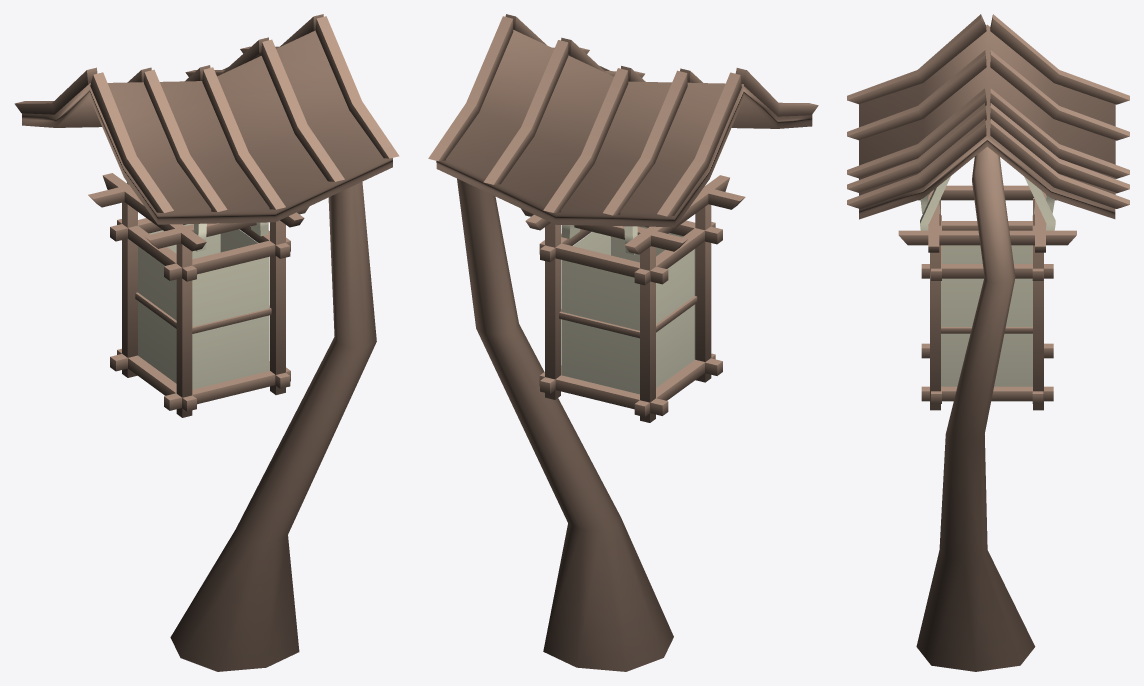
The model's file is m_paperLantern.fbx.
3 views of the same model, side by side, from view 1: azimuth 30°, elevation 25°; view 2: azimuth 150°, elevation 25°; view 3: azimuth 270°, elevation 25° (orthographic). The views are drawn at different scales.
Visible parts, largest first — view 1: paperLantern; view 2: paperLantern; view 3: paperLantern.
Part boxes in pixels (box(x1,y1,x2,y2)): paperLantern: box(14, 14, 399, 671); paperLantern: box(428, 14, 818, 671); paperLantern: box(847, 14, 1129, 671).
Bounding box in the file's own units: 117 × 245 × 110.
